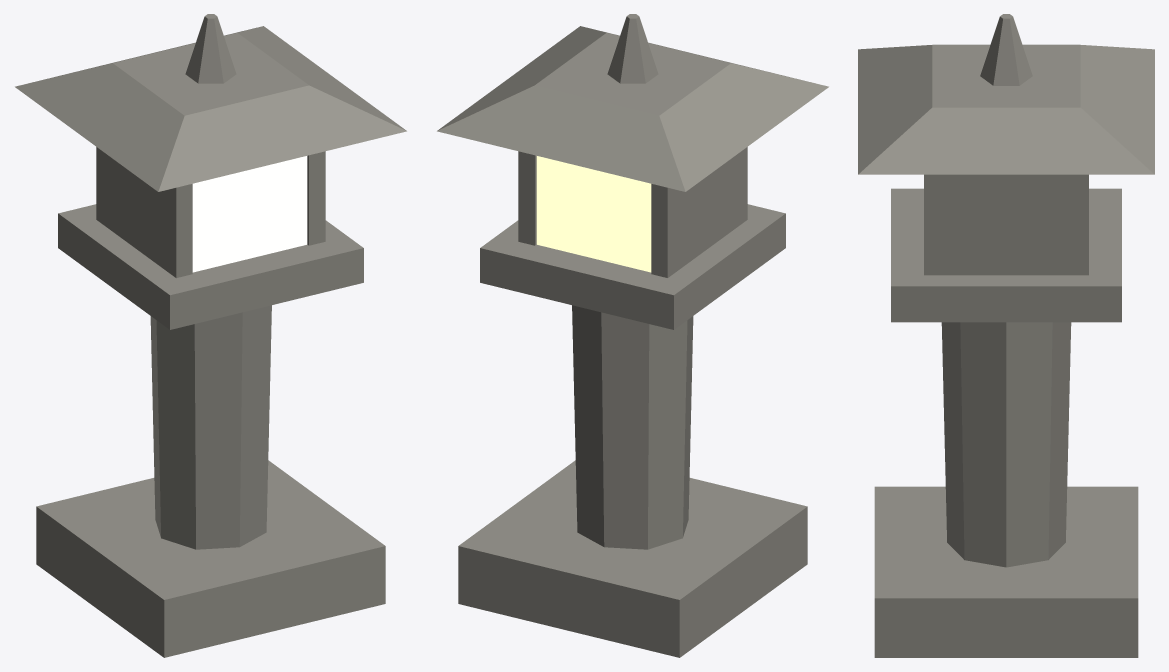
The model's file is p_toro.glb.
The picture shows the model from 3 angles, left to right: view 1: azimuth 30°, elevation 25°; view 2: azimuth 150°, elevation 25°; view 3: azimuth 270°, elevation 25°; orthographic projection. The views are drawn at different scales.
Visible parts, largest first — view 1: toro; view 2: toro; view 3: toro.
Part boxes in pixels (x1=…): toro: x1=15, y1=14, x2=406, y2=657; toro: x1=437, y1=14, x2=828, y2=657; toro: x1=858, y1=14, x2=1154, y2=657.
Bounding box in the file's own units: 0.9 × 1.96 × 0.9.
